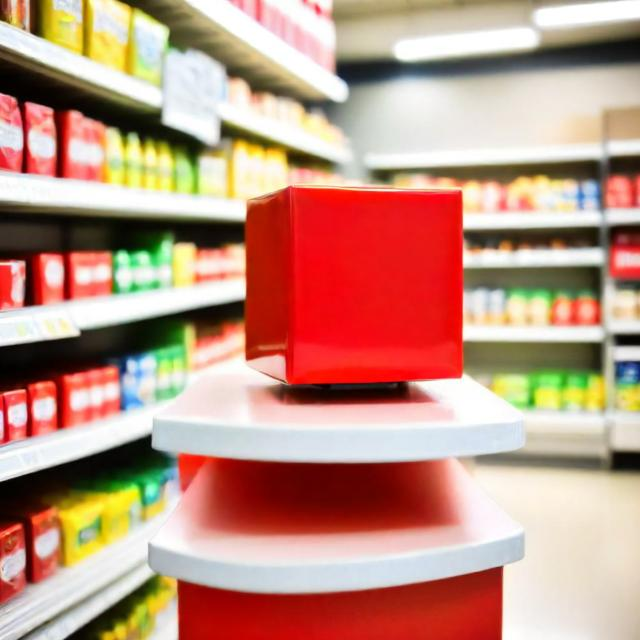red_block: (247, 185, 466, 387)
